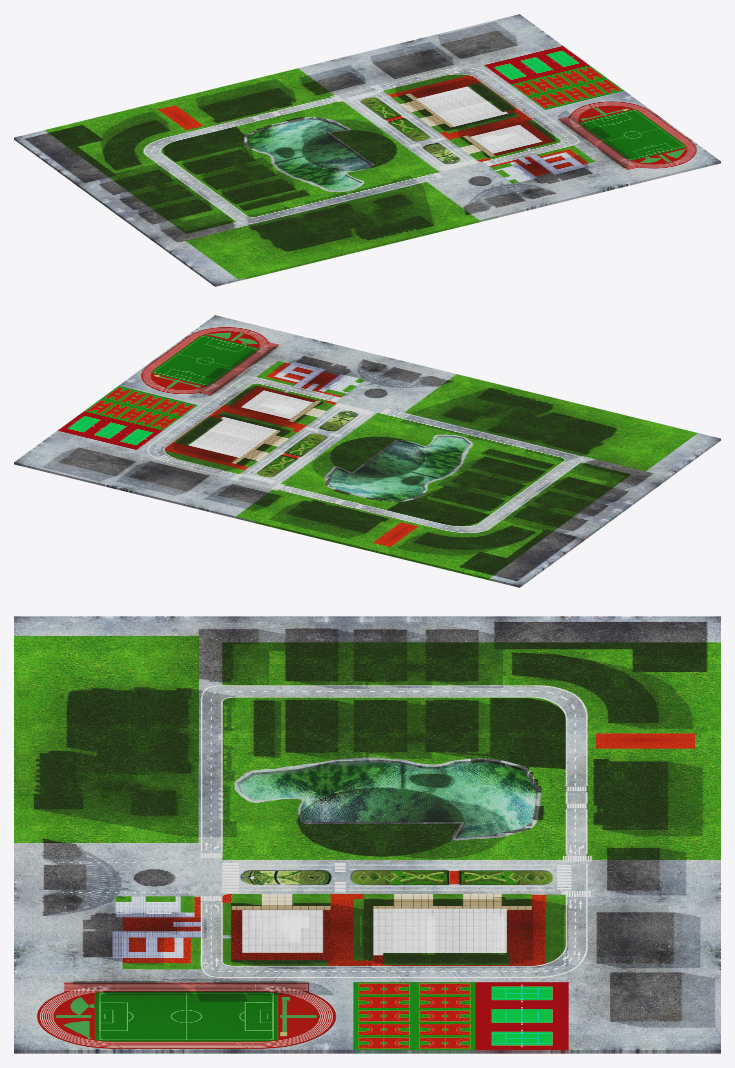
3 views of the same model, one above another, from view 1: azimuth 30°, elevation 25°; view 2: azimuth 150°, elevation 25°; view 3: azimuth 270°, elevation 25° (orthographic). The views are drawn at different scales.
Parts seen in each view (by area): view 1: dm; view 2: dm; view 3: dm.
Boxes of the visible parts, bbox=[...] form: dm: bbox=[14, 14, 720, 286]; dm: bbox=[14, 315, 720, 587]; dm: bbox=[14, 616, 720, 1053].
Bounding box in the file's own units: 24817 × 184 × 17091.
